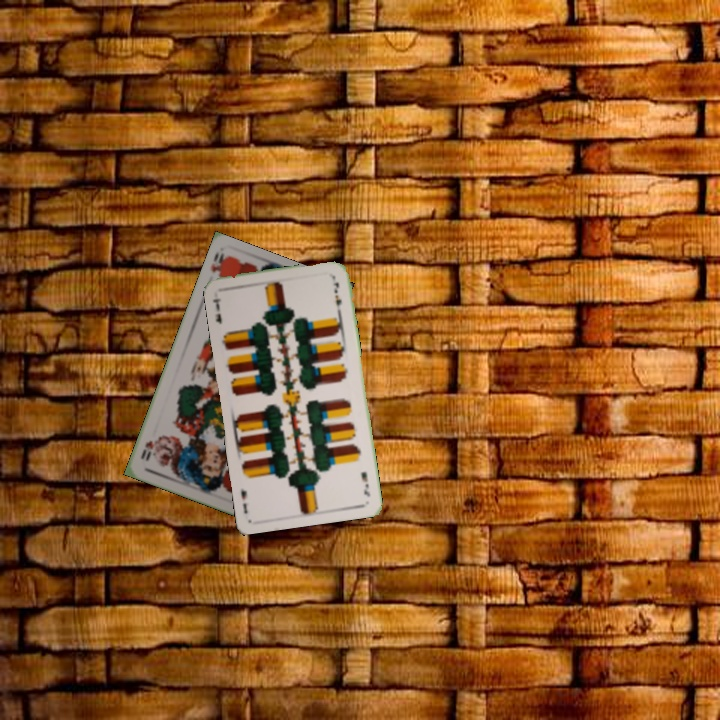E7: (209, 294, 224, 327), (357, 468, 372, 499)
HO: (207, 249, 230, 280)
